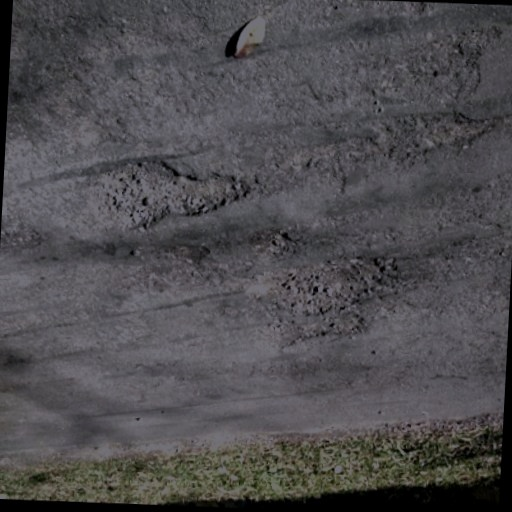pothole: (86, 156, 254, 243), (249, 254, 413, 323), (260, 310, 372, 355), (264, 228, 300, 259)
